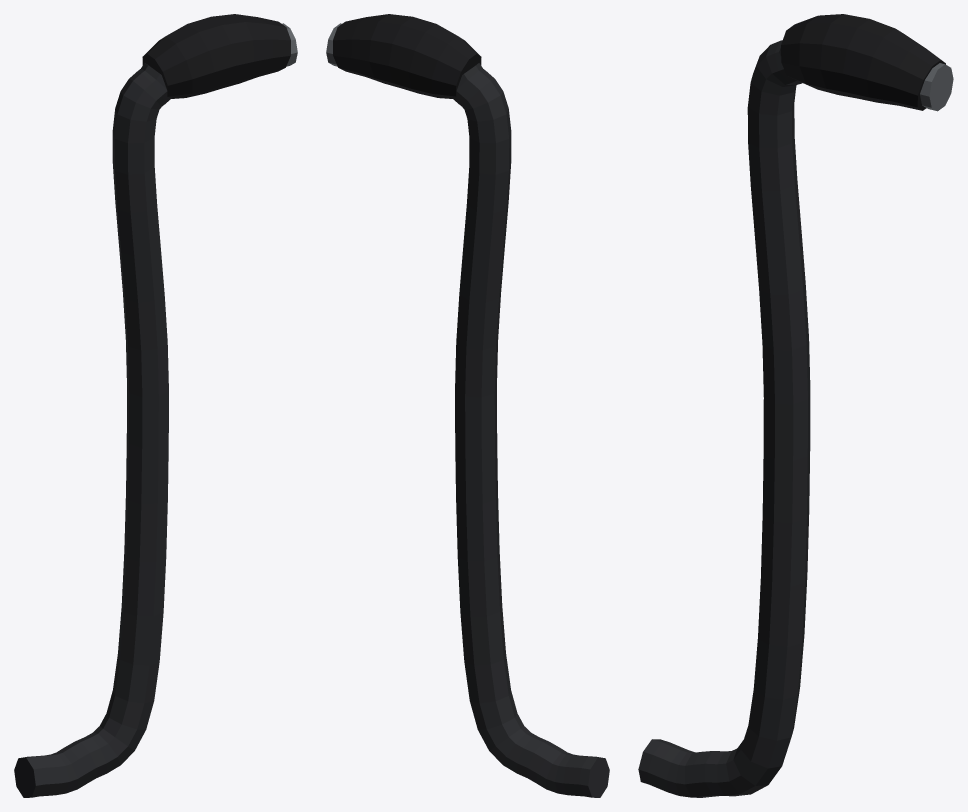
The model's file is MinidoracatTesla_CablePlugCybertruck.fbx.
3 renders of one model, left to right at view 1: azimuth 30°, elevation 25°; view 2: azimuth 150°, elevation 25°; view 3: azimuth 330°, elevation 25°, orthographic. The views are drawn at different scales.
Parts seen in each view (by area): view 1: MinidoracatTesla_CablePlugCybertruck; view 2: MinidoracatTesla_CablePlugCybertruck; view 3: MinidoracatTesla_CablePlugCybertruck.
Boxes of the visible parts, bbox=[...] form: MinidoracatTesla_CablePlugCybertruck: bbox=[14, 14, 297, 797]; MinidoracatTesla_CablePlugCybertruck: bbox=[326, 14, 609, 797]; MinidoracatTesla_CablePlugCybertruck: bbox=[638, 14, 953, 797].
Size of the model in its own units: 0.3639 by 0.9693 by 0.088.
